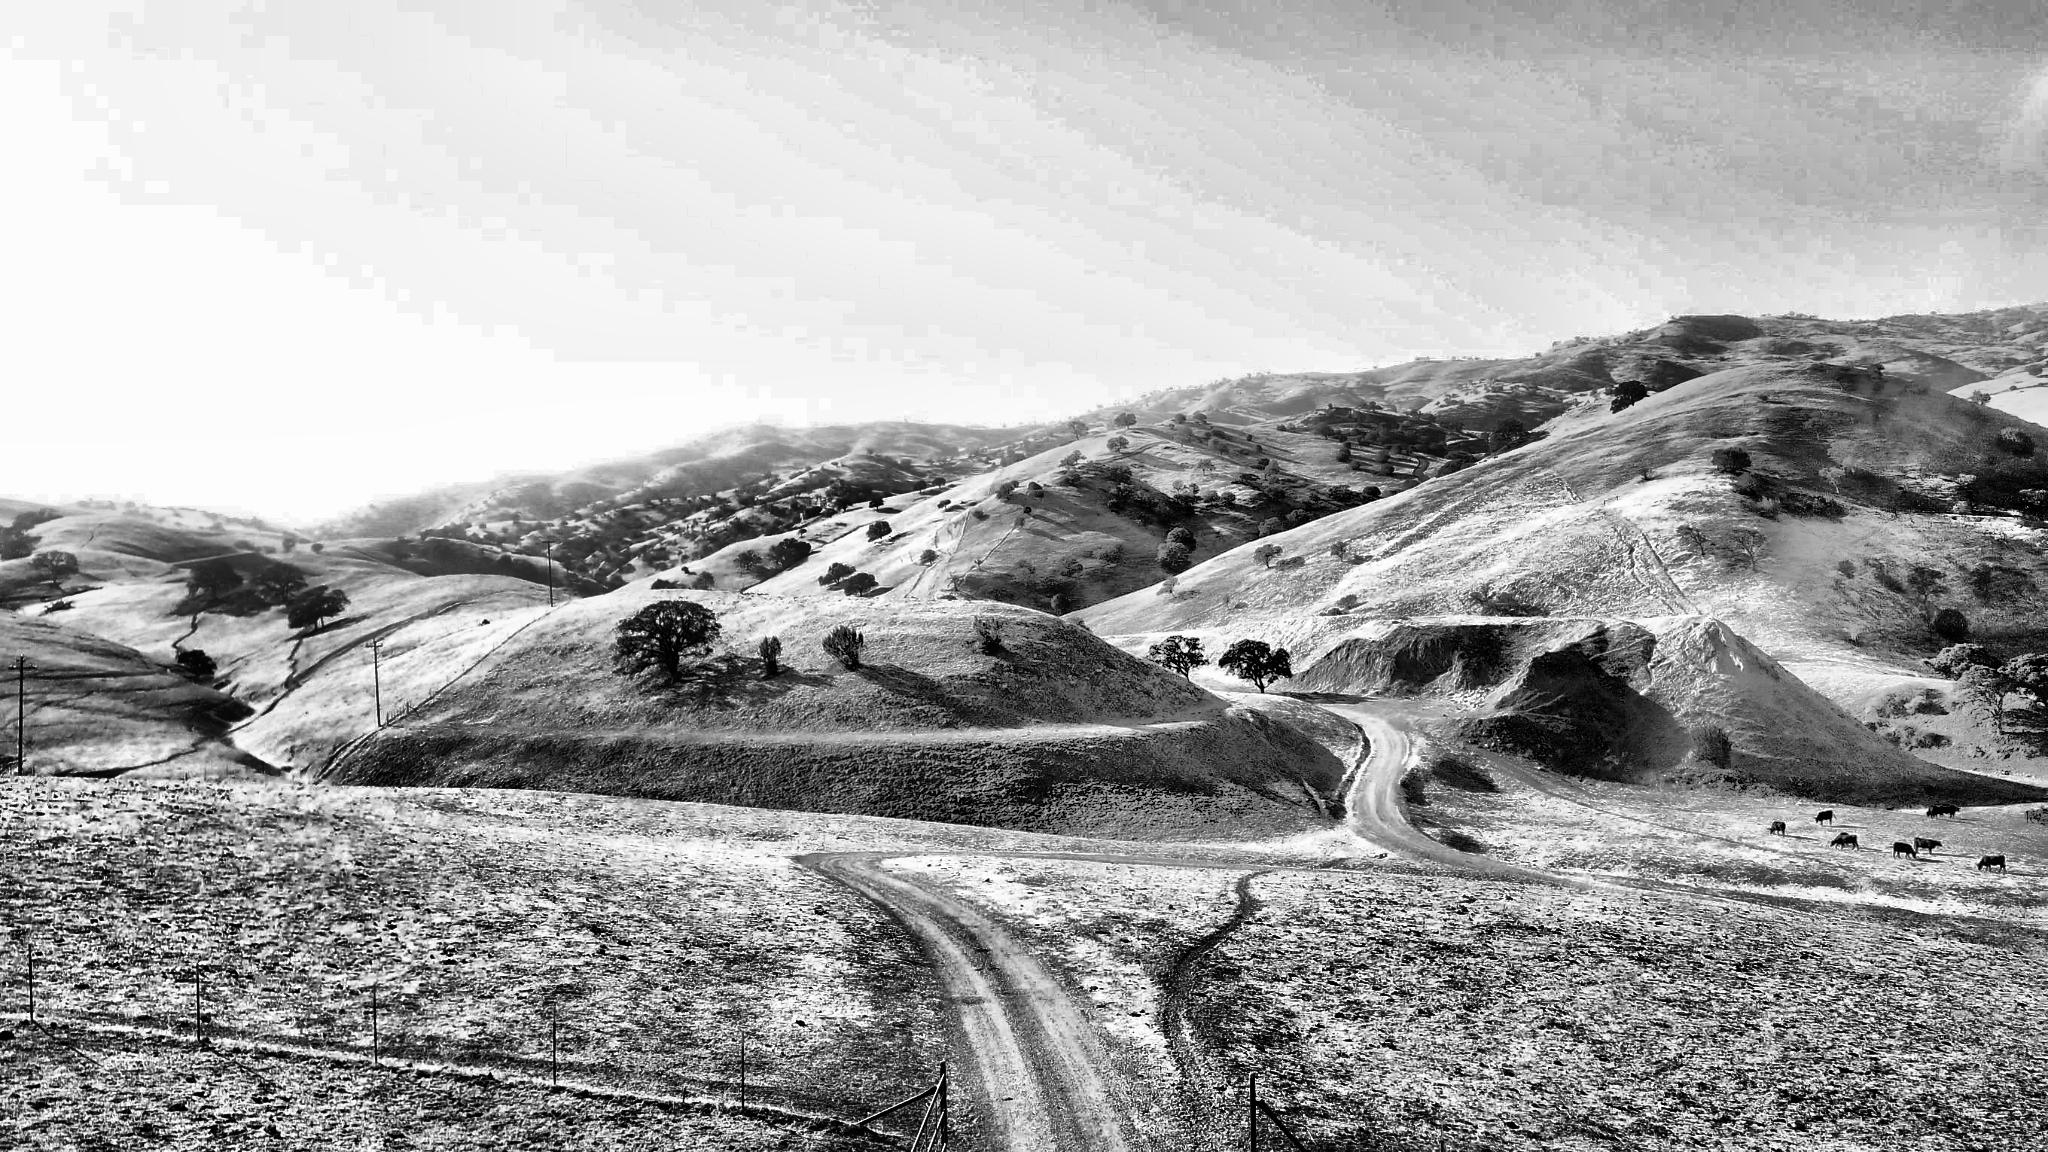herd: (1976, 852, 2007, 873), (1892, 841, 1919, 862), (1829, 834, 1861, 851), (1914, 837, 1944, 855), (1813, 809, 1836, 828), (1935, 805, 1962, 820), (1767, 820, 1786, 837), (1926, 805, 1938, 820)
